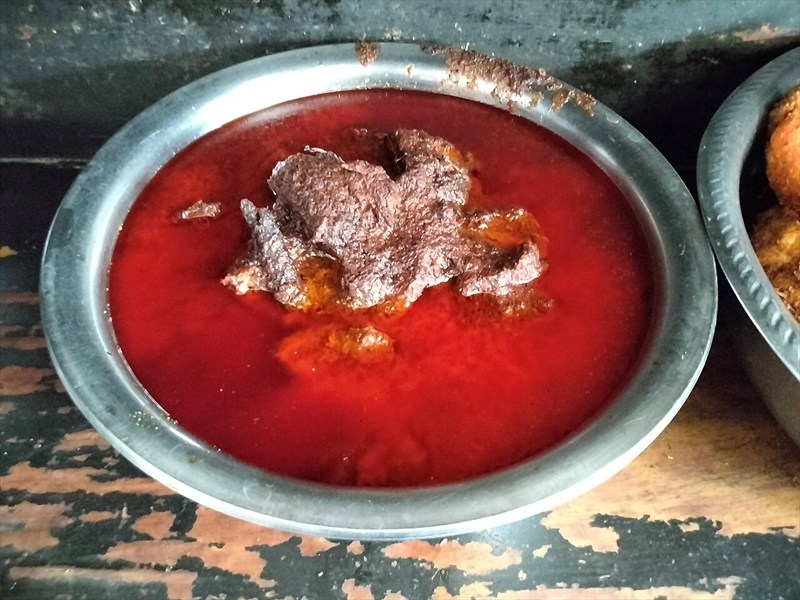Rendang: (82, 59, 698, 551)
